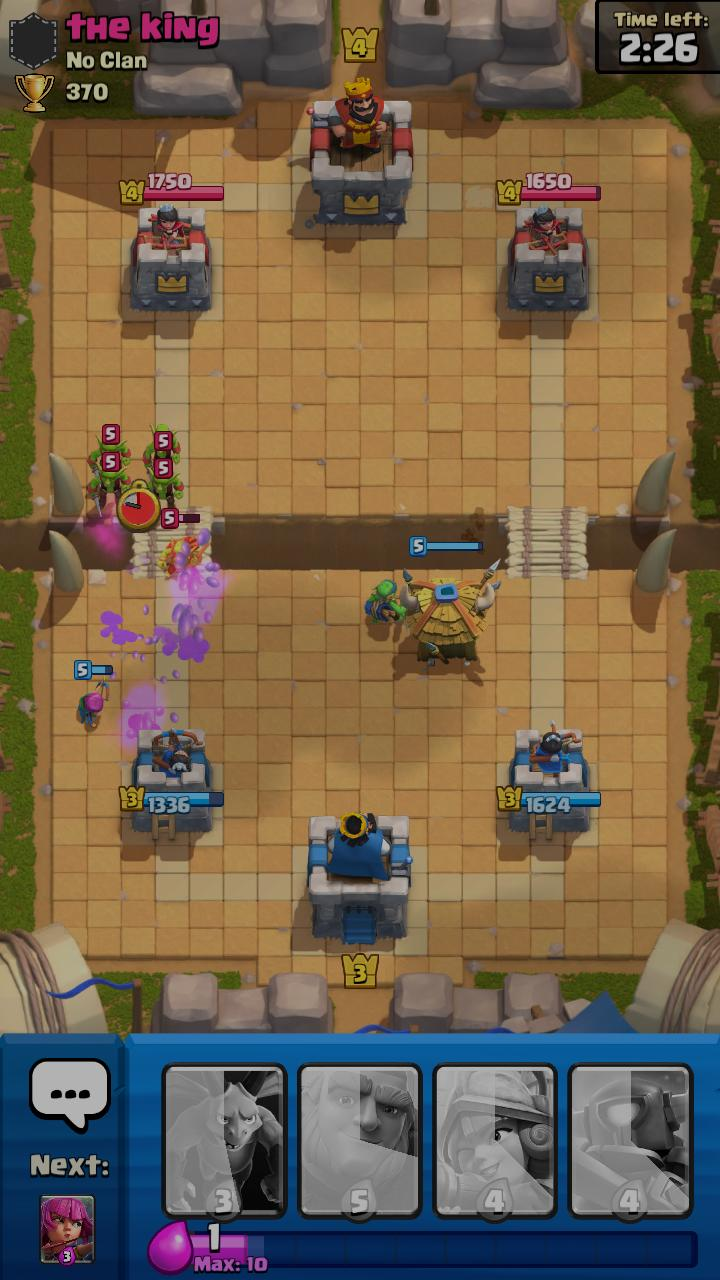ally: (399, 536, 501, 667), (74, 660, 113, 727), (364, 579, 407, 623)
enemy: (157, 509, 210, 577), (87, 452, 131, 516), (87, 424, 131, 487), (142, 423, 181, 474), (146, 458, 184, 508)
